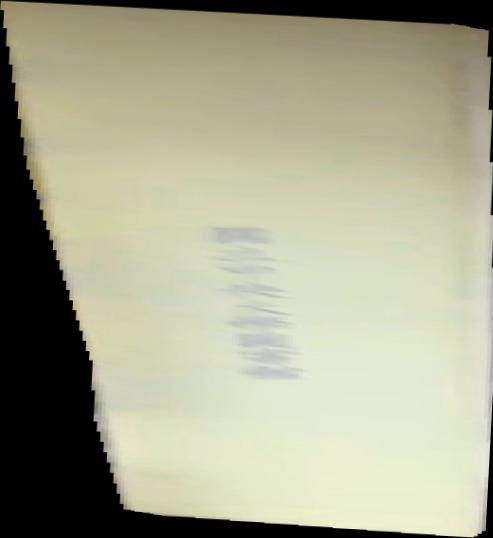backward: (1, 1, 493, 538)
